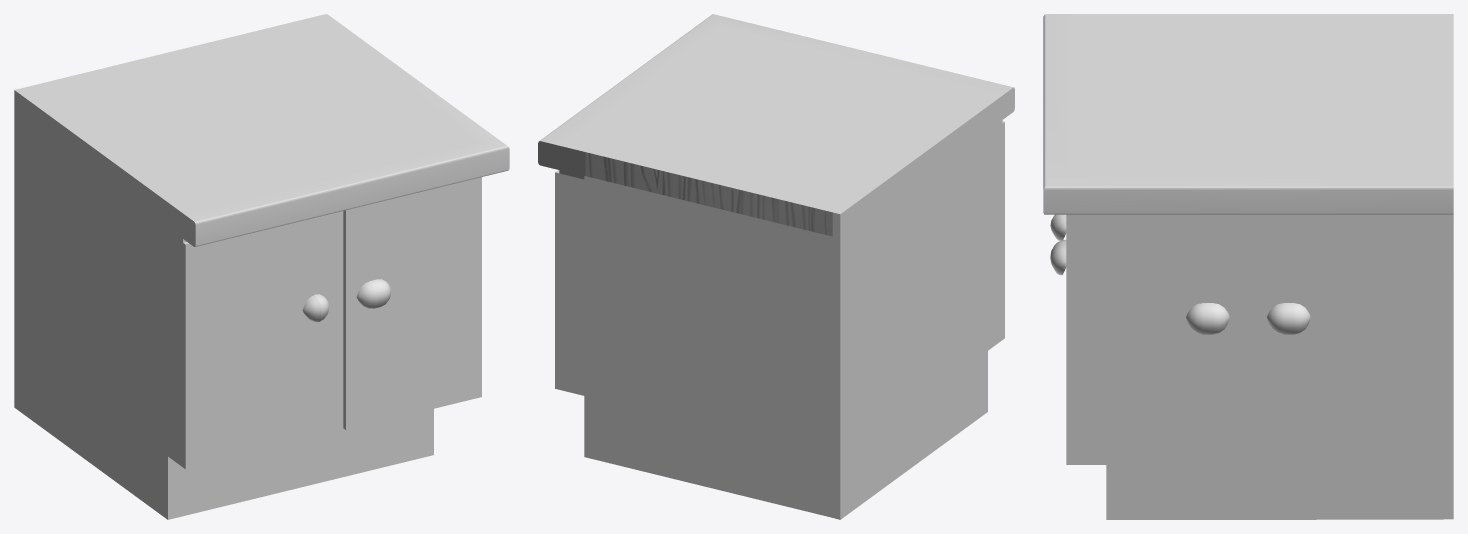
File: geo_counterCornerOut.fbx
3 views of the same model, side by side, from view 1: azimuth 30°, elevation 25°; view 2: azimuth 150°, elevation 25°; view 3: azimuth 270°, elevation 25° (orthographic). The views are drawn at different scales.
Visible parts, largest first — view 1: geo_counterCornerOut; view 2: geo_counterCornerOut; view 3: geo_counterCornerOut.
Boxes of the visible parts, x1,y1,x2,y2 form: geo_counterCornerOut: (14, 14, 509, 519); geo_counterCornerOut: (538, 14, 1014, 519); geo_counterCornerOut: (1043, 14, 1453, 519).
Bounding box in the file's own units: 0.9518 × 0.92 × 0.9519.
